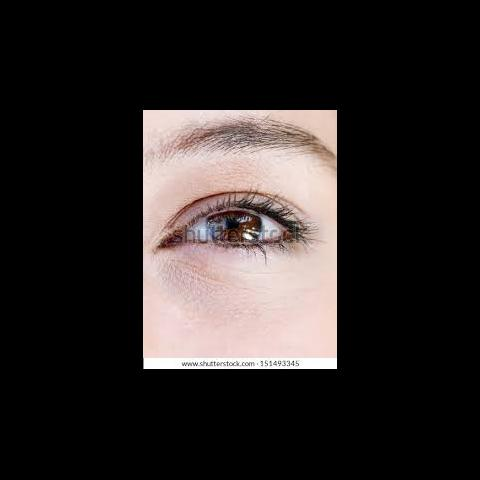opened: (155, 140, 319, 268)
